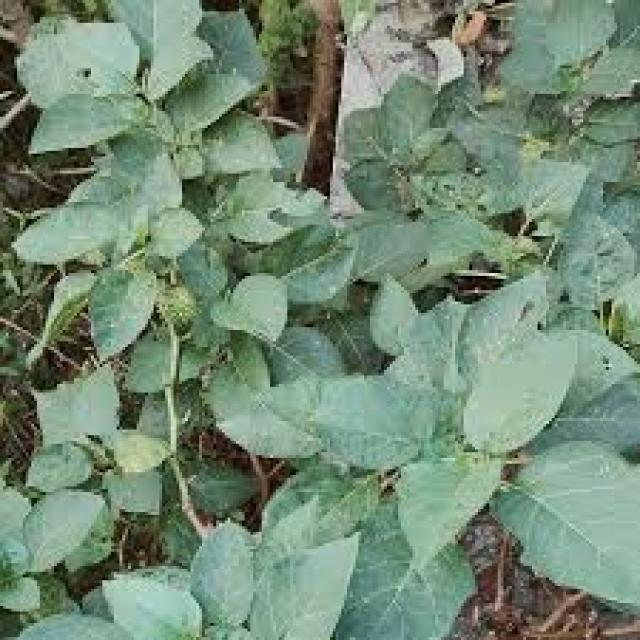healthy_leaf: (39, 14, 551, 596)
